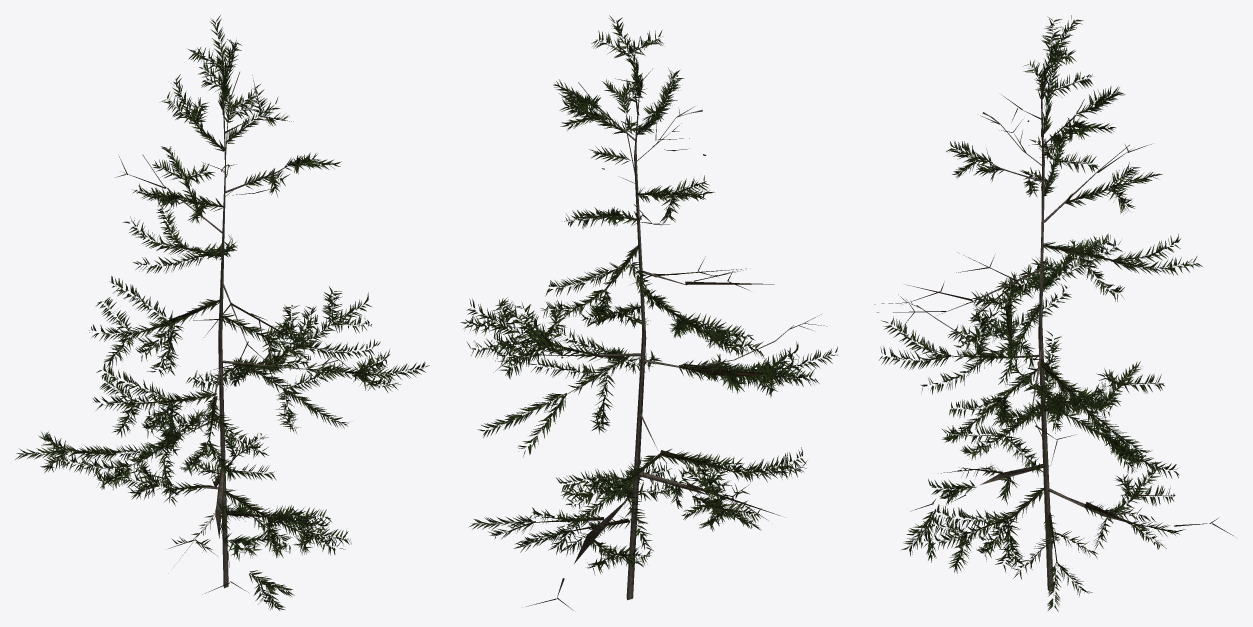
File: ff-tree-game.glb
3 views of the same model, side by side, from view 1: azimuth 30°, elevation 25°; view 2: azimuth 150°, elevation 25°; view 3: azimuth 270°, elevation 25° (orthographic). The views are drawn at different scales.
Parts seen in each view (by area): view 1: FF_TreeGame; view 2: FF_TreeGame; view 3: FF_TreeGame.
Boxes of the visible parts, bbox=[...] form: FF_TreeGame: bbox=[15, 15, 429, 610]; FF_TreeGame: bbox=[460, 15, 837, 610]; FF_TreeGame: bbox=[874, 15, 1233, 611].
Size of the model in its own units: 0.789 by 1.27 by 0.7361.
Materials: 2 (2 with a texture image).
